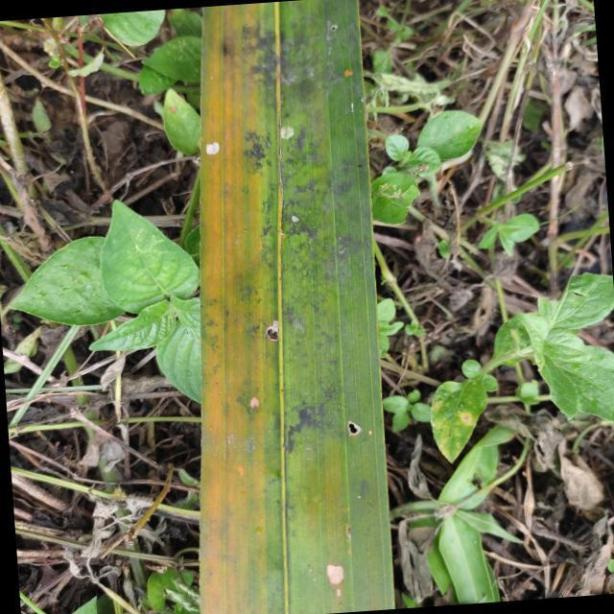Megnesium: (194, 0, 398, 614)
